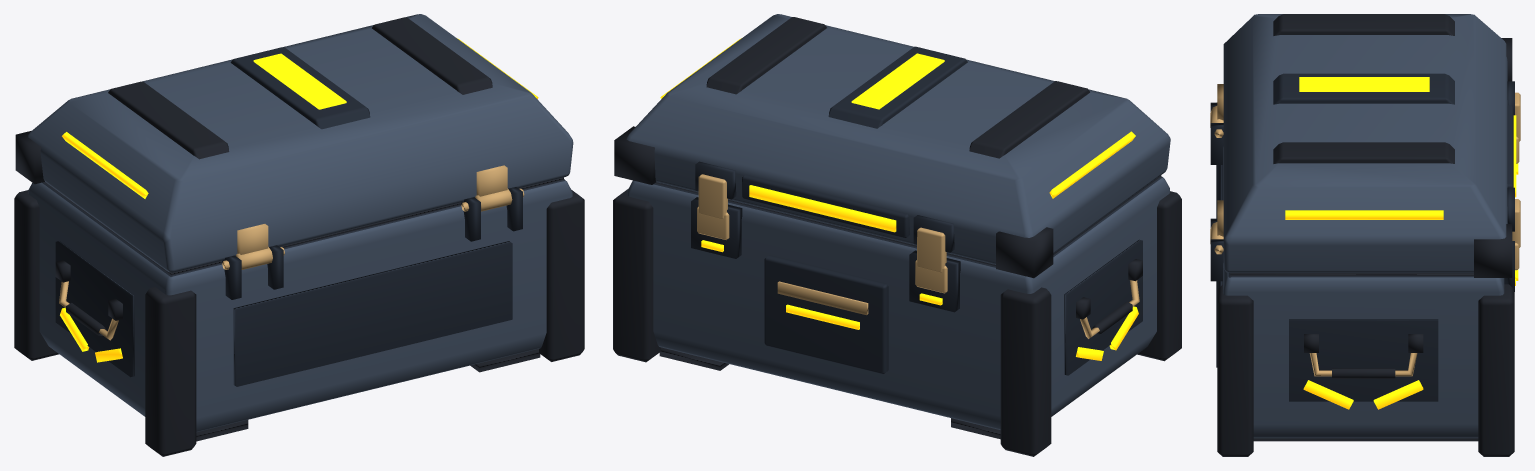
Rendered from prop_loot_chest.glb.
The picture shows the model from 3 angles, left to right: view 1: azimuth 30°, elevation 25°; view 2: azimuth 150°, elevation 25°; view 3: azimuth 270°, elevation 25°; orthographic projection.
Parts seen in each view (by area): view 1: ChestBaseMesh, ChestLidMesh; view 2: ChestBaseMesh, ChestLidMesh; view 3: ChestLidMesh, ChestBaseMesh.
Part boxes in pixels (x1,y1,x2,y2): ChestBaseMesh: (14,177,584,456); ChestLidMesh: (15,14,573,272); ChestBaseMesh: (613,175,1181,456); ChestLidMesh: (614,14,1170,278); ChestLidMesh: (1210,14,1520,277); ChestBaseMesh: (1210,102,1519,456).
Size of the model in its own units: 1.08 by 0.644 by 0.666.
